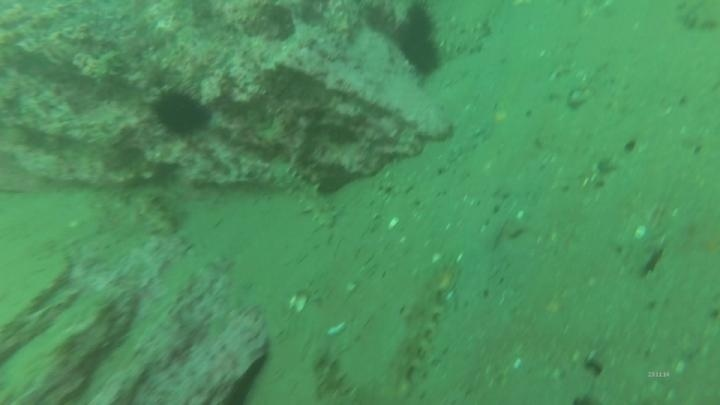echinus: (148, 84, 213, 141), (395, 15, 440, 76), (407, 2, 440, 22)
holothurian: (387, 261, 456, 387), (275, 164, 343, 231), (127, 185, 184, 239), (430, 14, 494, 59)
